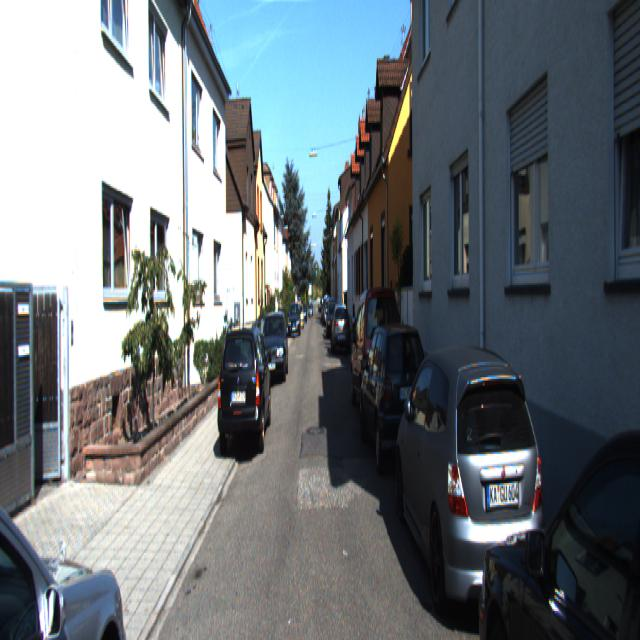Car: (393, 331, 550, 638), (478, 346, 640, 638), (0, 389, 136, 638), (360, 313, 433, 487), (218, 318, 272, 459), (350, 282, 400, 432), (260, 309, 288, 384), (332, 303, 351, 356), (288, 302, 300, 340)
